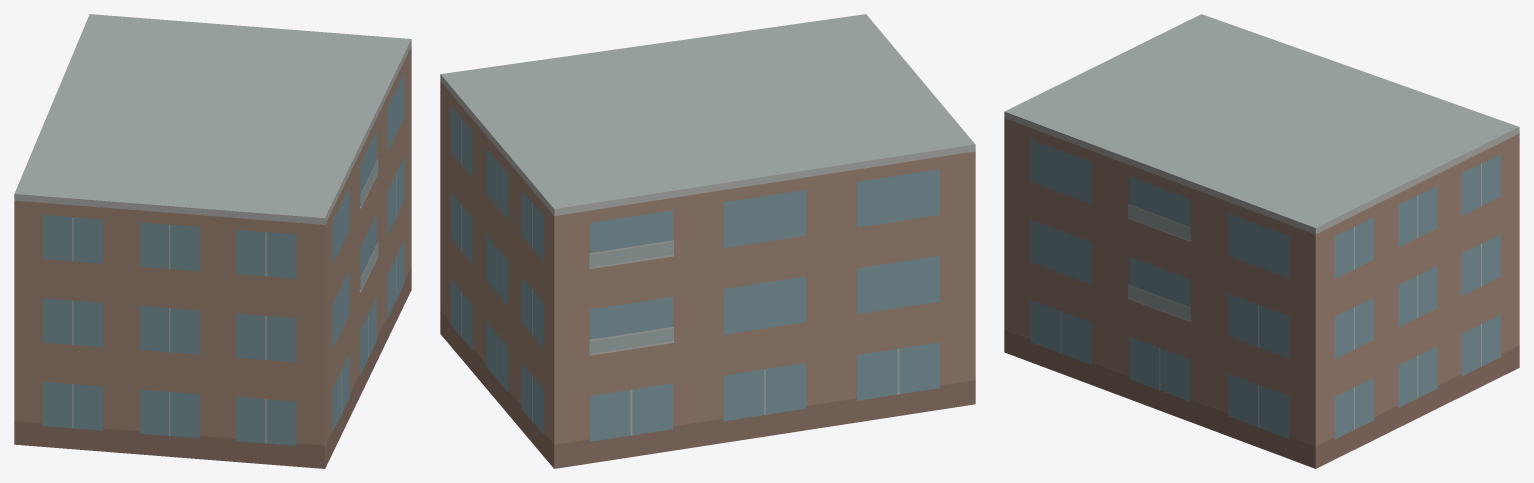
Rendered from survey-upis-32977197.glb.
The picture shows the model from 3 angles, left to right: view 1: azimuth 30°, elevation 25°; view 2: azimuth 150°, elevation 25°; view 3: azimuth 270°, elevation 25°; orthographic projection. The views are drawn at different scales.
Visible parts, largest first — view 1: survey-upis-32977197.tmp; view 2: survey-upis-32977197.tmp; view 3: survey-upis-32977197.tmp.
Boxes of the visible parts, x1,y1,x2,y2 form: survey-upis-32977197.tmp: (14,14,411,468); survey-upis-32977197.tmp: (440,14,975,468); survey-upis-32977197.tmp: (1004,14,1519,468).
Bounding box in the file's own units: 17.46 × 9.15 × 17.75.
